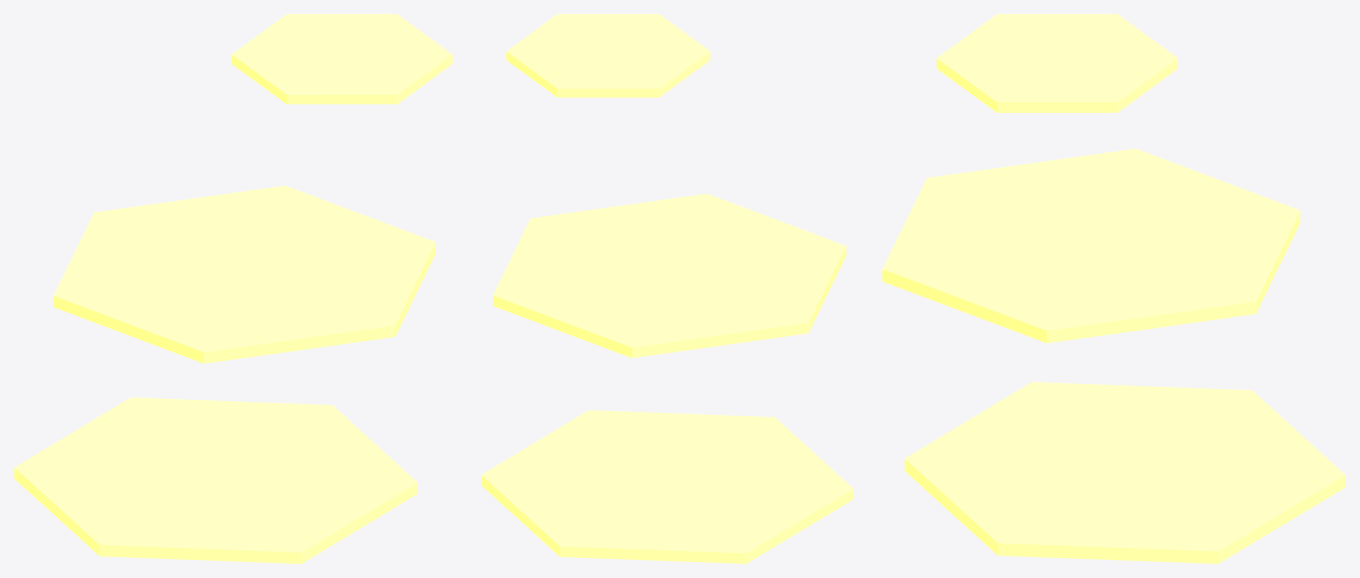
The model's file is Facet_C.glb.
The picture shows the model from 3 angles, left to right: view 1: azimuth 30°, elevation 25°; view 2: azimuth 150°, elevation 25°; view 3: azimuth 270°, elevation 25°; orthographic projection. The views are drawn at different scales.
Visible parts, largest first — view 1: Facet; view 2: Facet; view 3: Facet.
Boxes of the visible parts, bbox=[...] form: Facet: bbox=[14, 14, 452, 563]; Facet: bbox=[481, 14, 853, 563]; Facet: bbox=[882, 14, 1345, 563].
Bounding box in the file's own units: 9.47 × 11.38 × 10.12.
